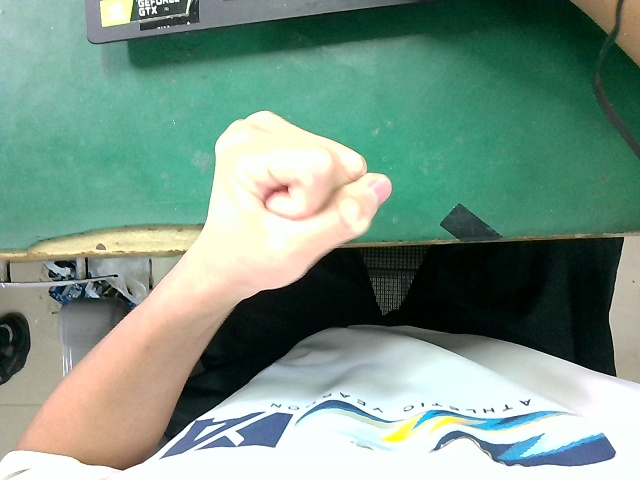stone: (185, 80, 412, 304)
